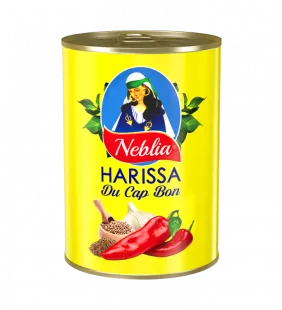NEBLIA: (52, 20, 229, 285)
